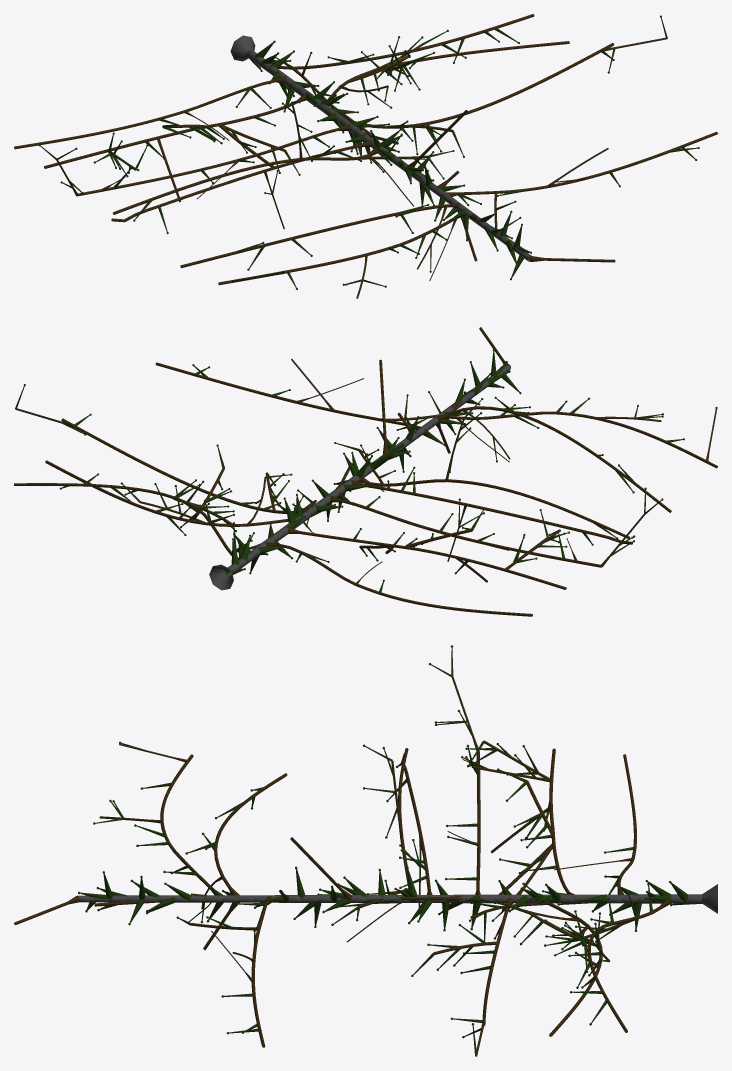
The model's file is tree_13.obj.
The picture shows the model from 3 angles, top to bottom: view 1: azimuth 30°, elevation 25°; view 2: azimuth 150°, elevation 25°; view 3: azimuth 270°, elevation 25°; orthographic projection. The views are drawn at different scales.
Bounding box in the file's own units: 5.14 × 1.14 × 4.4.
